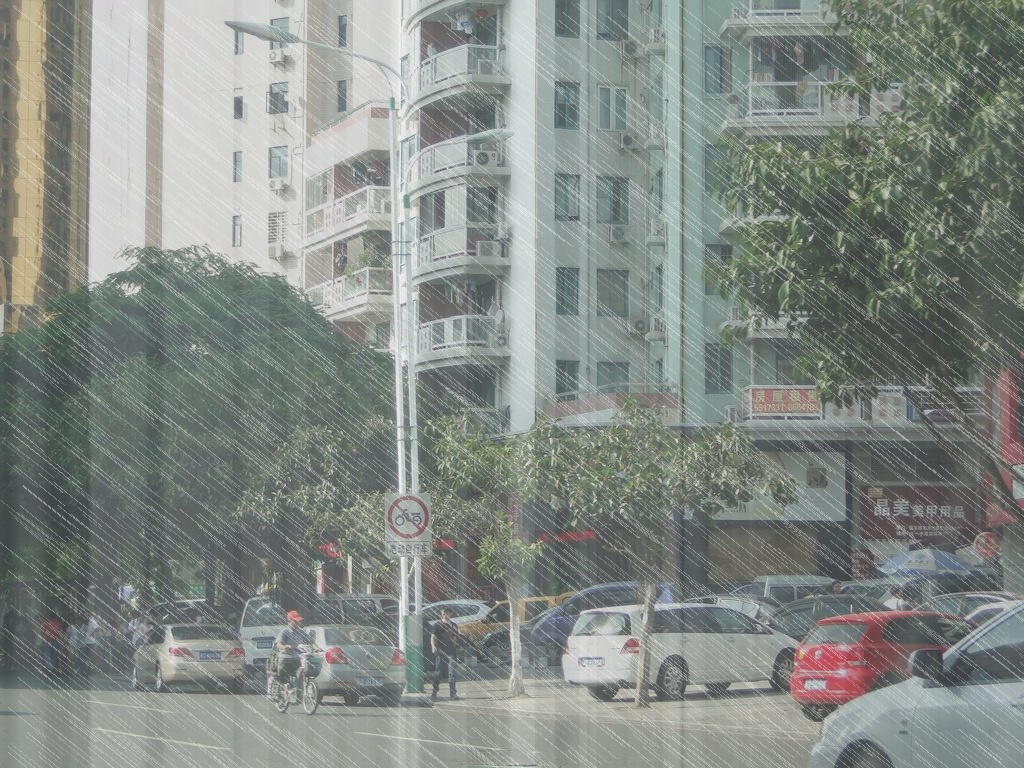Prohibitory Signs: (386, 495, 431, 540)
